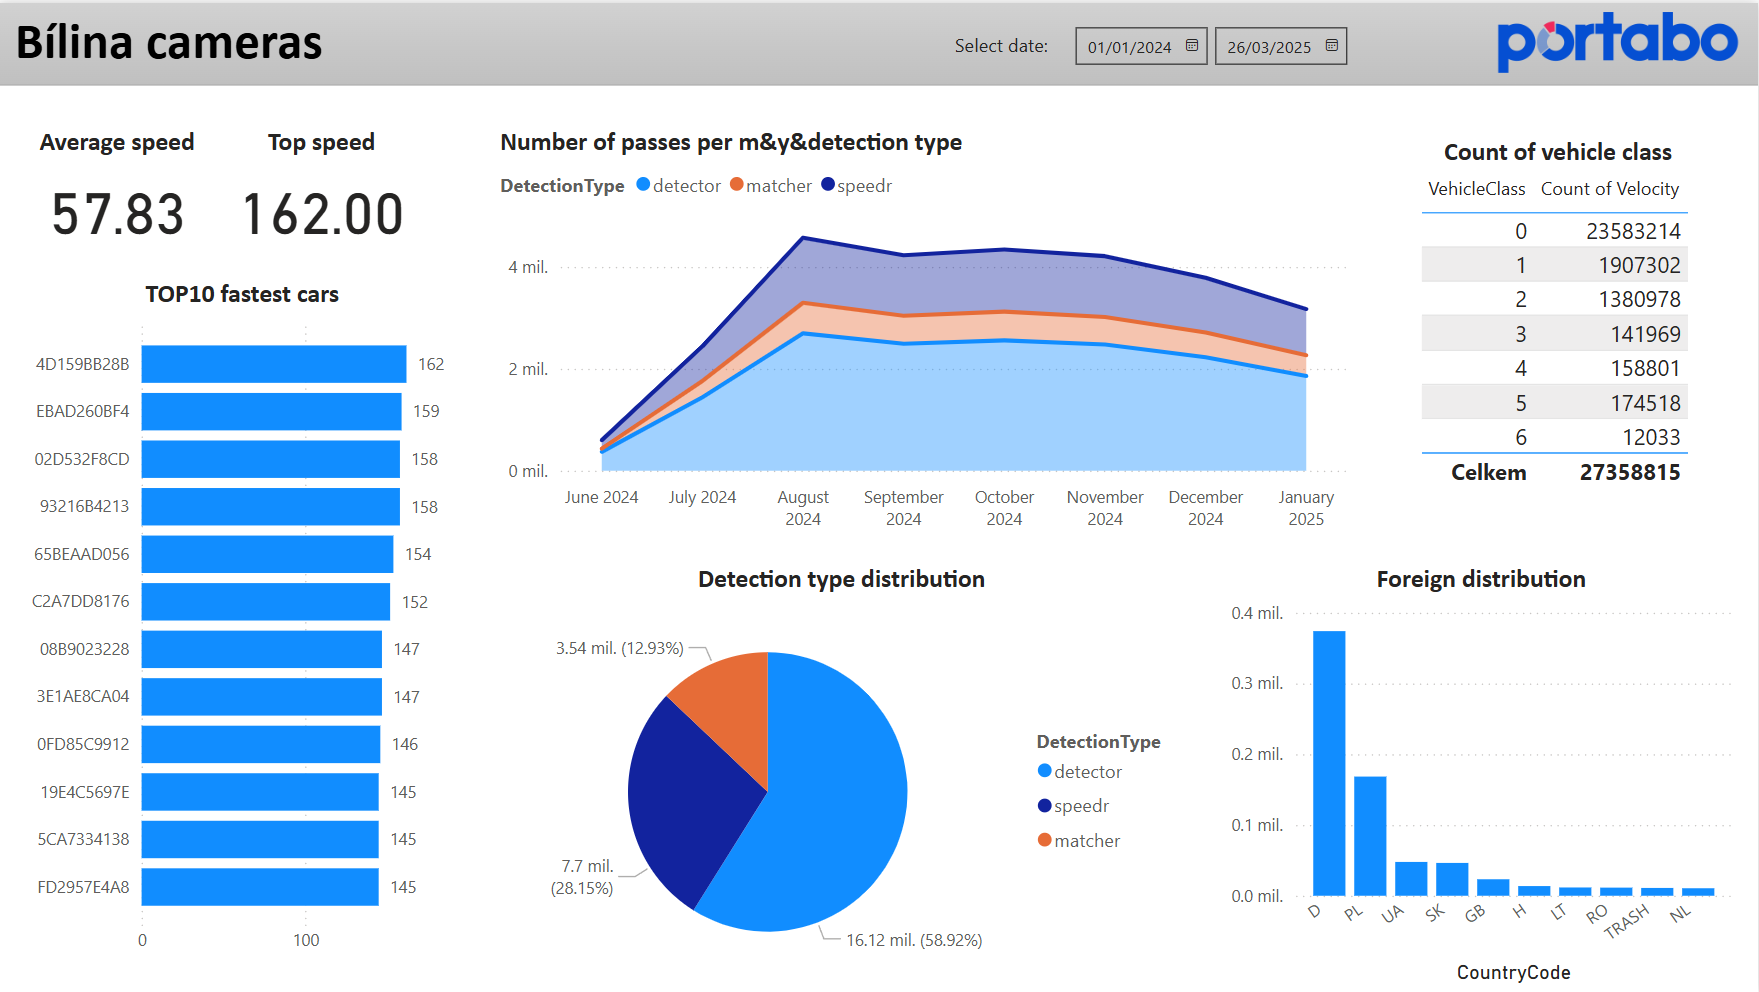

The page's visual inventory and layout, read from the dashboard file:
{"tool":"powerbi","page":{"name":"Bílina kamera","canvas":[1280,720],"ordinal":0},"visuals":[{"type":"clusteredBarChart","title":"TOP10 fastest cars","fields":{"Category":["DimLP.LicensePlate"],"Y":["FactCameraDetection.Maximum of Velocity"]},"box":[14,200,328,500],"z":0},{"type":"textbox","box":[7,0,387,76],"z":1000},{"type":"pieChart","title":"Detection type distribution","fields":{"Y":["FactCameraDetection.Count of Velocity"],"Category":["DimDetectionType.DetectionType"]},"box":[360,407,507,311],"z":2000},{"type":"stackedAreaChart","title":"Number of passes per m&y&detection type","fields":{"Category":["DimTime.MonthYear"],"Y":["FactCameraDetection.Count of Velocity"],"Series":["DimDetectionType.DetectionType"]},"box":[360,89,631,302],"z":3000},{"type":"card","title":"Average speed","fields":{"Values":["FactCameraDetection.Average of Velocity"]},"box":[18.6,89.4,137,97],"z":4000},{"type":"card","title":"Top speed","fields":{"Values":["FactCameraDetection.Maximum of Velocity"]},"box":[156.6,89.4,158,97],"z":5000},{"type":"clusteredColumnChart","title":"Foreign distribution","fields":{"Category":["DimCountry.CountryCode"],"Y":["FactCameraDetection.Count of Velocity"]},"box":[892,407,374,311],"z":6000},{"type":"slicer","fields":{"Values":["DimTime.Date hierarchy.FullDate"]},"box":[771,7,241,46],"z":7000},{"type":"textbox","box":[691,16,116,34],"z":8000},{"type":"tableEx","title":"Count of vehicle class","fields":{"Values":["DimVehicleClass.VehicleClass","FactCameraDetection.Count of Velocity"]},"box":[1029,96,211,287],"z":9000}]}

Visuals, with their boxes in screenshot pixels (x1, y1, x2, y2), scaled from the page's 1280x720 canvas onto the 1759x992 screenshot:
"TOP10 fastest cars" clusteredBarChart: 19,276,470,964
textbox: 10,0,541,105
"Detection type distribution" pieChart: 495,561,1191,989
"Number of passes per m&y&detection type" stackedAreaChart: 495,123,1362,539
"Average speed" card: 26,123,214,257
"Top speed" card: 215,123,432,257
"Foreign distribution" clusteredColumnChart: 1226,561,1740,989
slicer - DimTime.Date hierarchy.FullDate: 1060,10,1391,73
textbox: 950,22,1109,69
"Count of vehicle class" tableEx: 1414,132,1704,528
